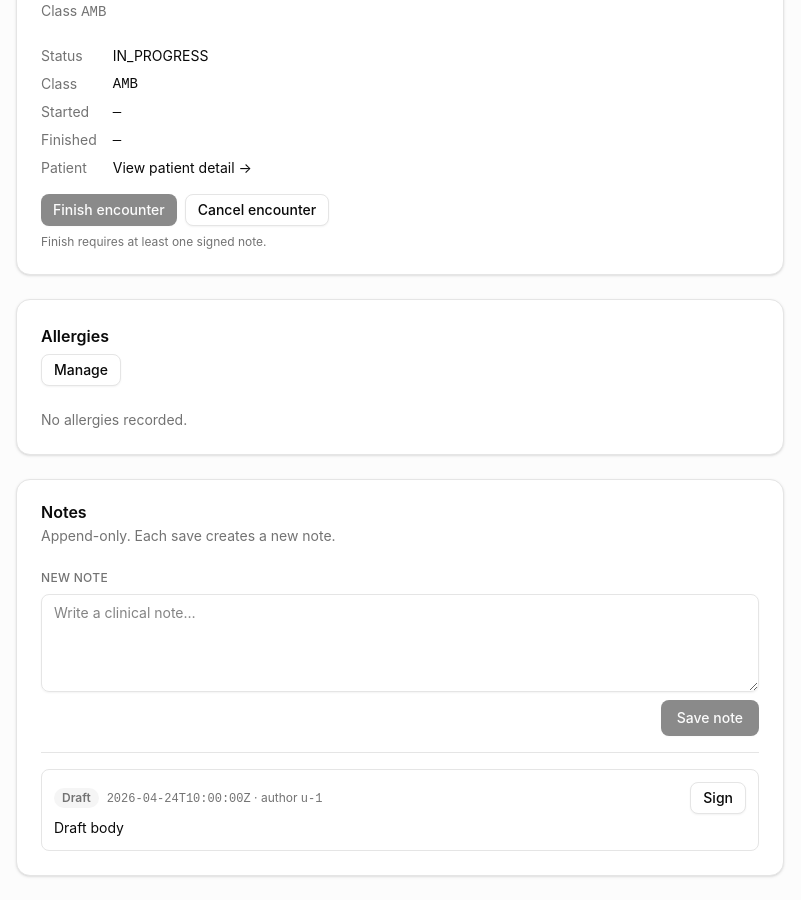
it: <EncounterDetailPage /> › shows a 403 error banner when the sign is denied
(page scrolled)
Expected: the list with test id "notes-list" is shown, 41,769 -> 759,851
Step 1. Click the button with test id "sign-note-button" → (718, 798), box 690,782 -> 746,814
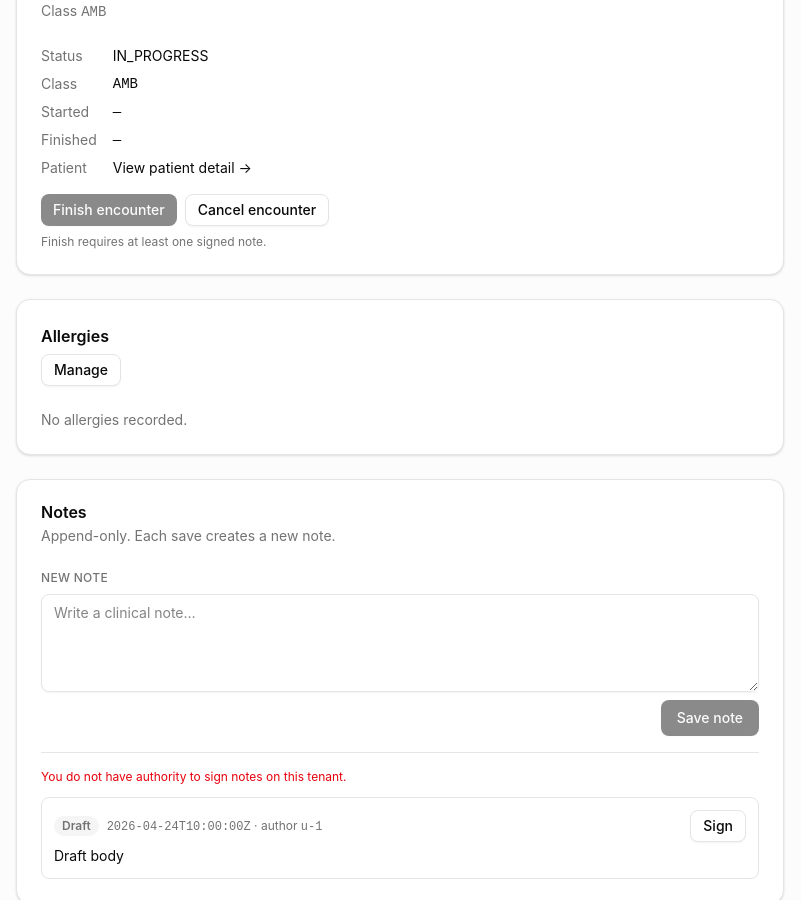
Now the message with test id "sign-note-error" shows "You do not have authority", box 41,769 -> 346,784
